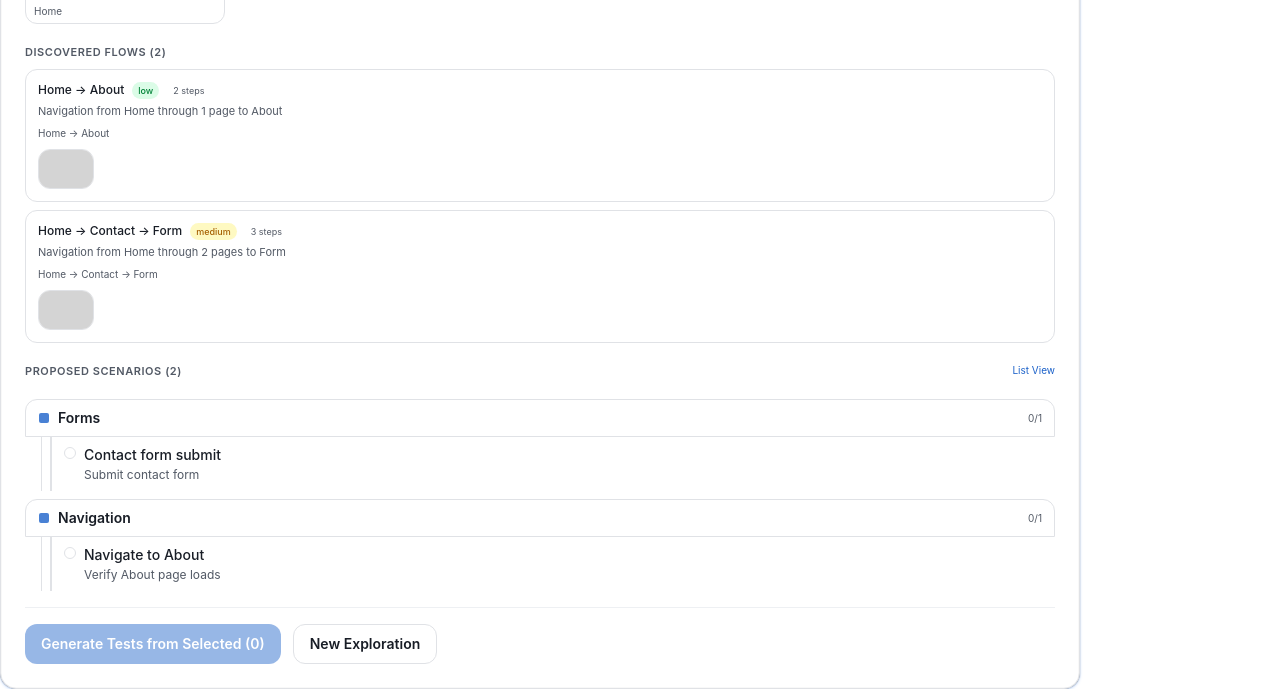
Test: ExplorePage › shows New Exploration confirmation dialog
(page scrolled)
Click the button "New Exploration": click(365, 644) [293,624,437,664]
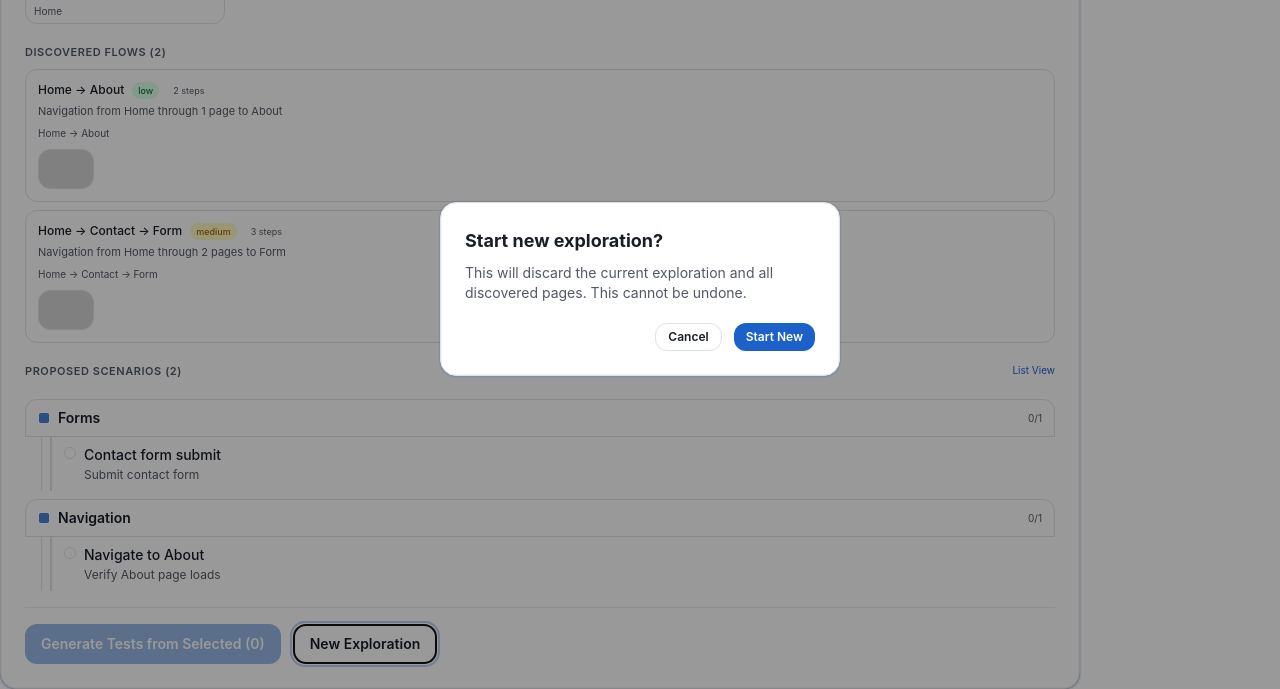
Result: the heading "Start new exploration?" is shown at [465,230,663,251]
Result: the text "discard the current exploration" is shown at [465,264,773,301]
